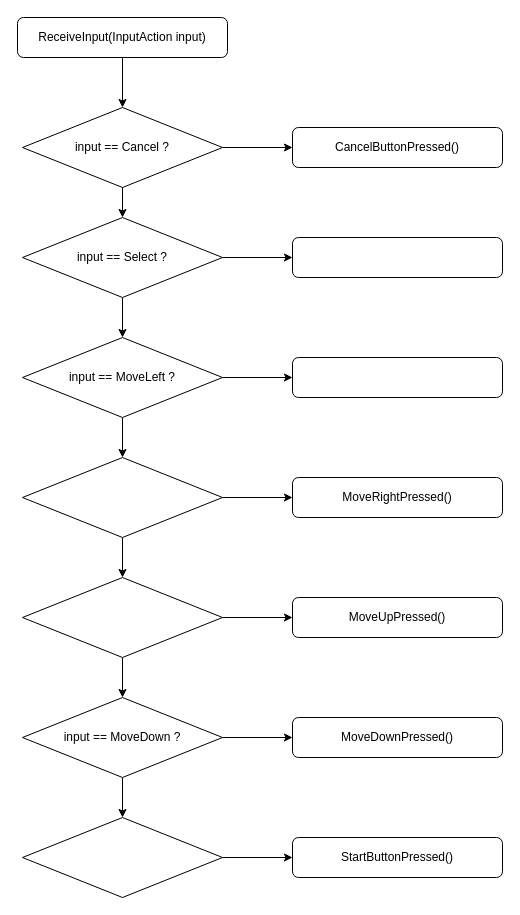
The diagram is 520 pixels wide and 915 high, and some of its shapes have lost their labels. The shapes that lost their labels are listed below. From the top down, each one's centre as x and y in pixels, then its label:
At (397,257): "SelectButtonPressed()".
At (397,377): "MoveLeftPressed()".
At (122,497): "input == MoveRight ?".
At (122,617): "input == MoveUp ?".
At (122,857): "input == OpenMenu ?".
